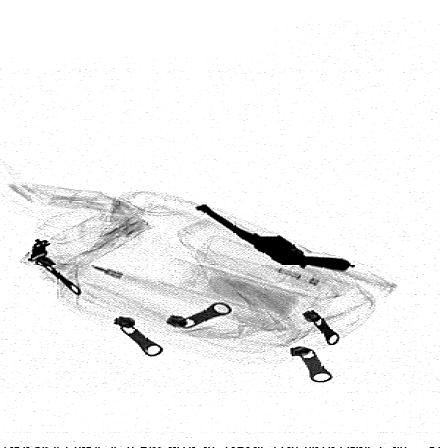Gun: (192, 204, 351, 272)
